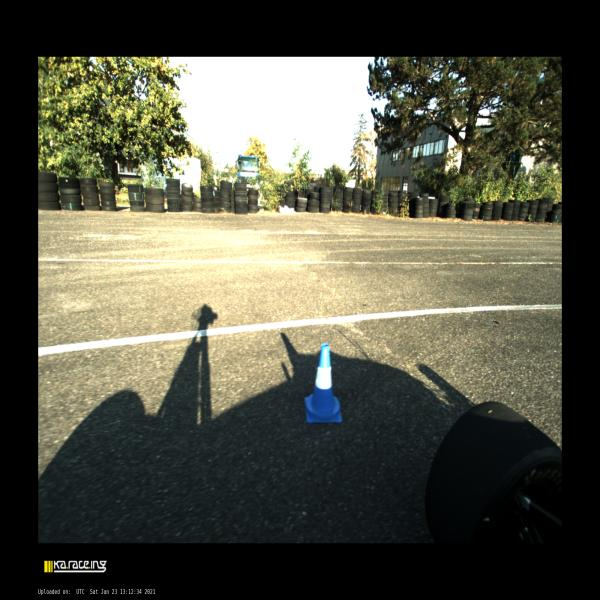blue_cone: (304, 342, 343, 424)
